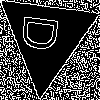D: (21, 13, 67, 55)
